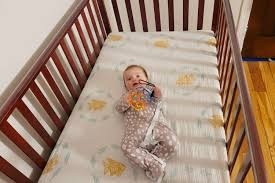baby: (116, 65, 177, 181)
crib: (0, 0, 266, 182)
